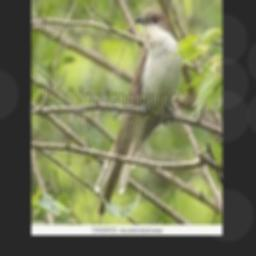Cuckoo: (93, 7, 181, 215)
